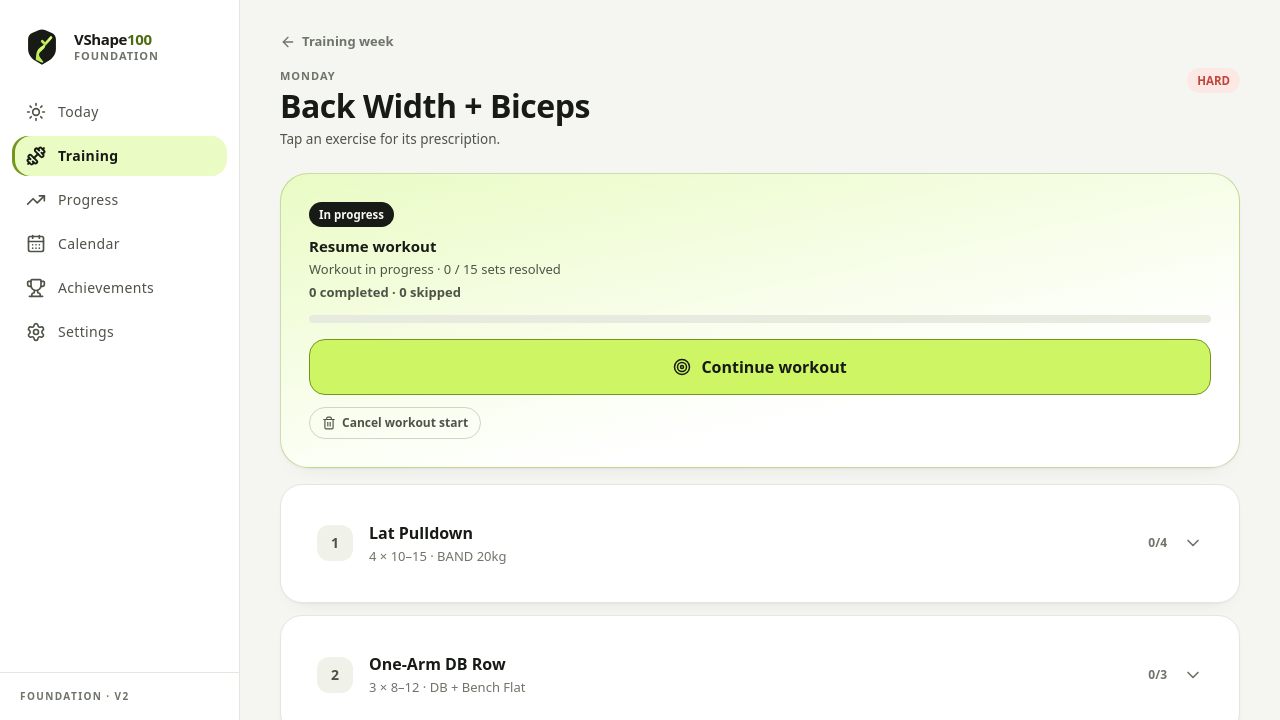
it: 1. the opening exercise is derived, never guessed › opens on the first exercise when nothing has been logged
Check: the heading "Back Width + Biceps" is shown, box 280,88 -> 590,125
Click the button "Continue workout".
click(760, 367)  # box 309,339 -> 1211,395
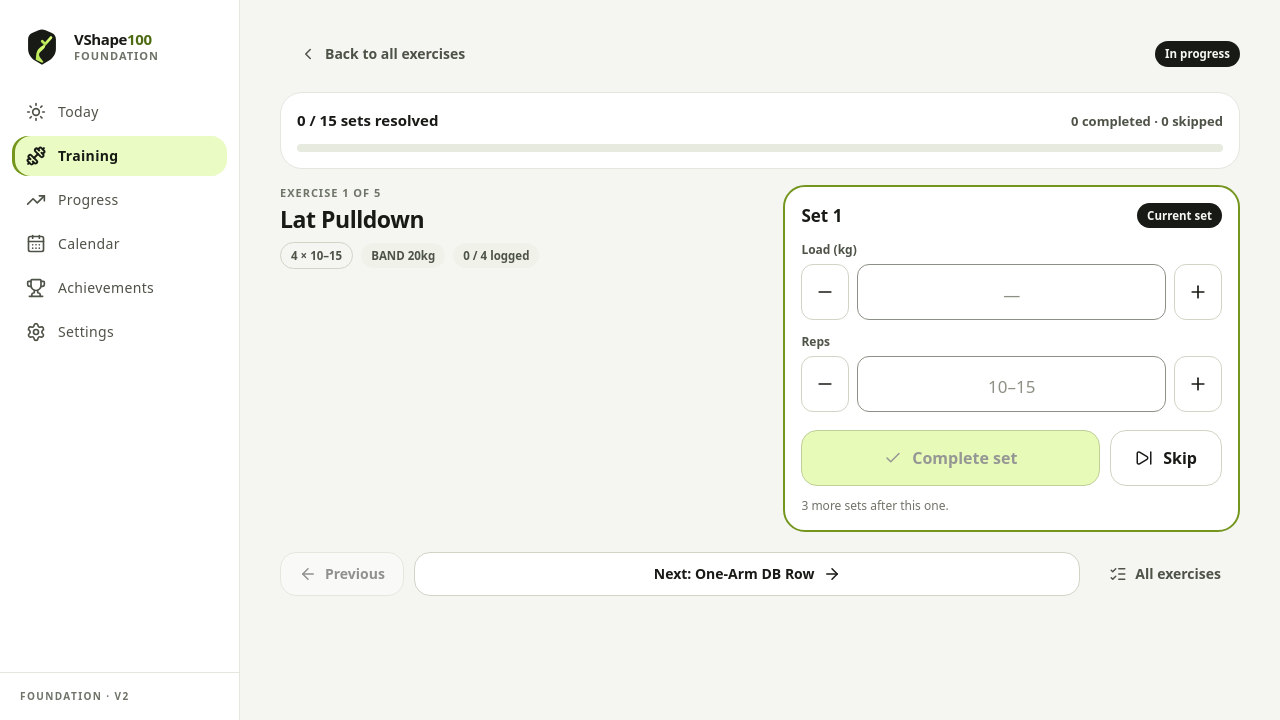
Check: the heading reads "Lat Pulldown", box 280,203 -> 424,235
Check: the text "Exercise 1 of 5" is shown, box 280,184 -> 381,200
Check: the text "Set 1" is shown, box 801,202 -> 842,228
